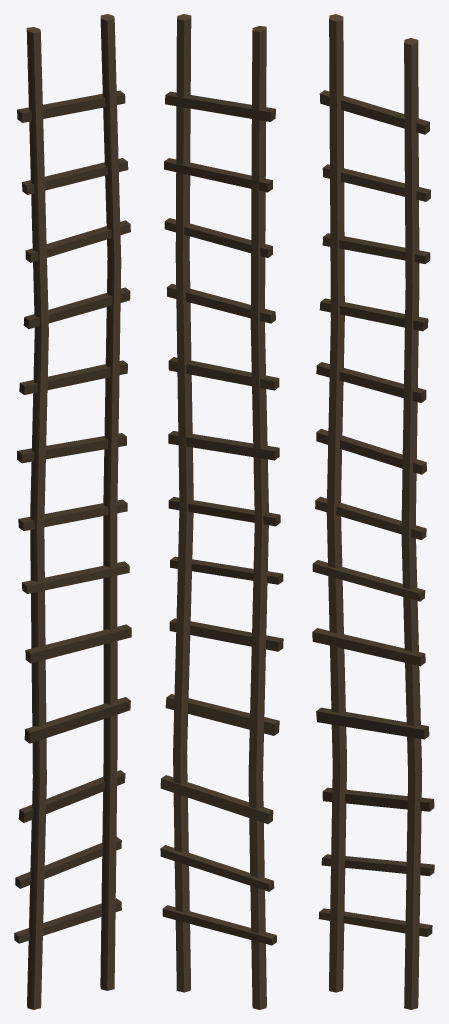
File: SM_Prop_Ladder_01.glb
3 views of the same model, side by side, from view 1: azimuth 30°, elevation 25°; view 2: azimuth 150°, elevation 25°; view 3: azimuth 330°, elevation 25° (orthographic).
Visible parts, largest first — view 1: SM_Prop_Ladder_01; view 2: SM_Prop_Ladder_01; view 3: SM_Prop_Ladder_01.
Part boxes in pixels (bbox=[...]): SM_Prop_Ladder_01: bbox=[14, 14, 131, 1009]; SM_Prop_Ladder_01: bbox=[160, 14, 283, 1009]; SM_Prop_Ladder_01: bbox=[312, 14, 434, 1009].
Size of the model in its own units: 0.00706 by 0.0602 by 0.00204.
